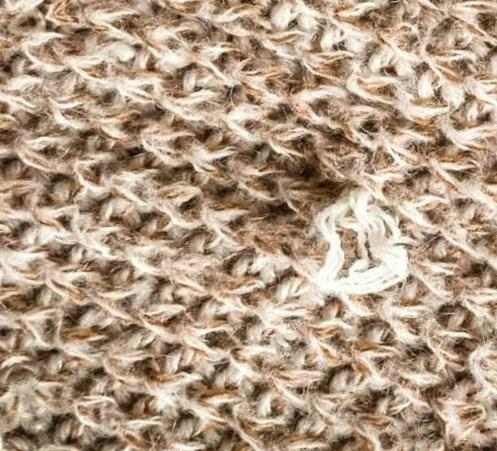snag: (288, 182, 432, 304)
